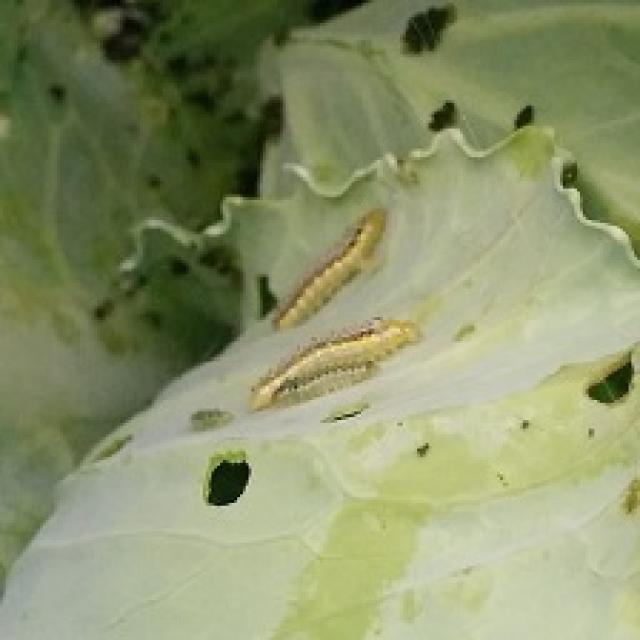Cabbage-worm: (250, 320, 442, 407), (273, 201, 394, 329)
